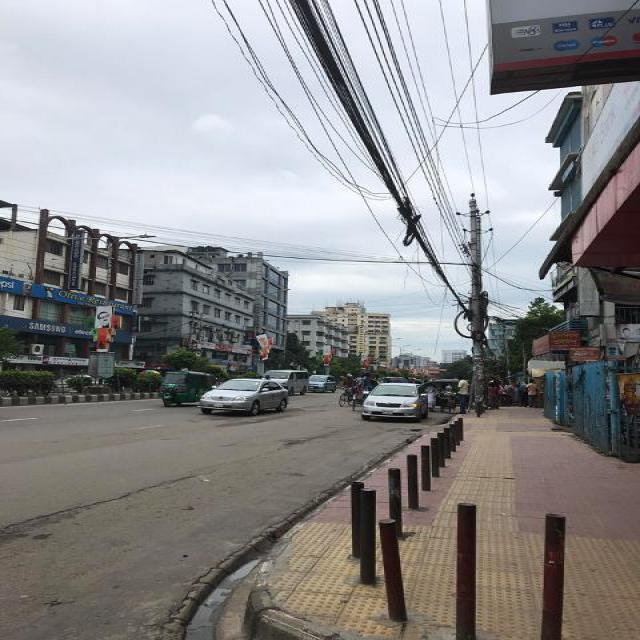vehicle: (198, 376, 292, 420), (356, 379, 433, 423), (156, 366, 214, 410), (336, 371, 375, 410), (260, 367, 310, 397), (306, 374, 336, 394)
